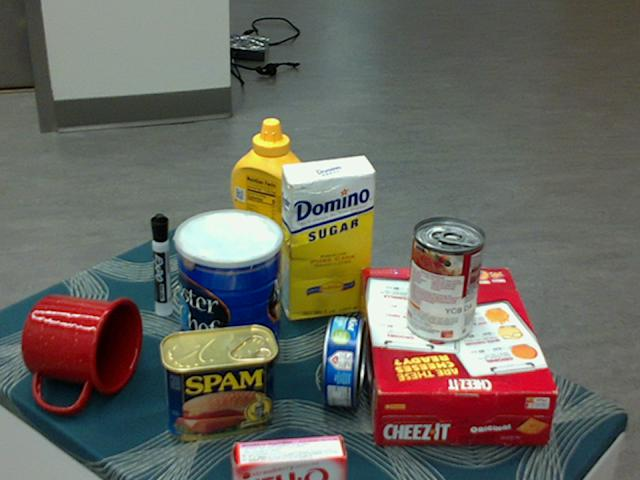cracker_box: (356, 270, 557, 441)
gelatin_box: (229, 435, 343, 479)
large_marker: (150, 212, 169, 315)
master_chef_can: (175, 210, 283, 383)
mug: (21, 293, 142, 411)
mustard_bottle: (230, 118, 310, 288)
potted_meat_can: (159, 324, 277, 439)
sugar_box: (280, 157, 375, 321)
tomato_soup_can: (404, 218, 484, 344)
tuna_fish_can: (322, 316, 365, 407)
